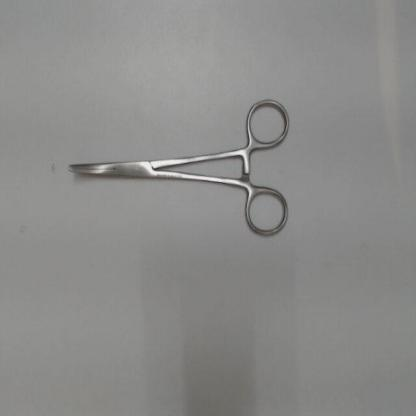Crile Artery Forceps: (61, 89, 298, 246)
